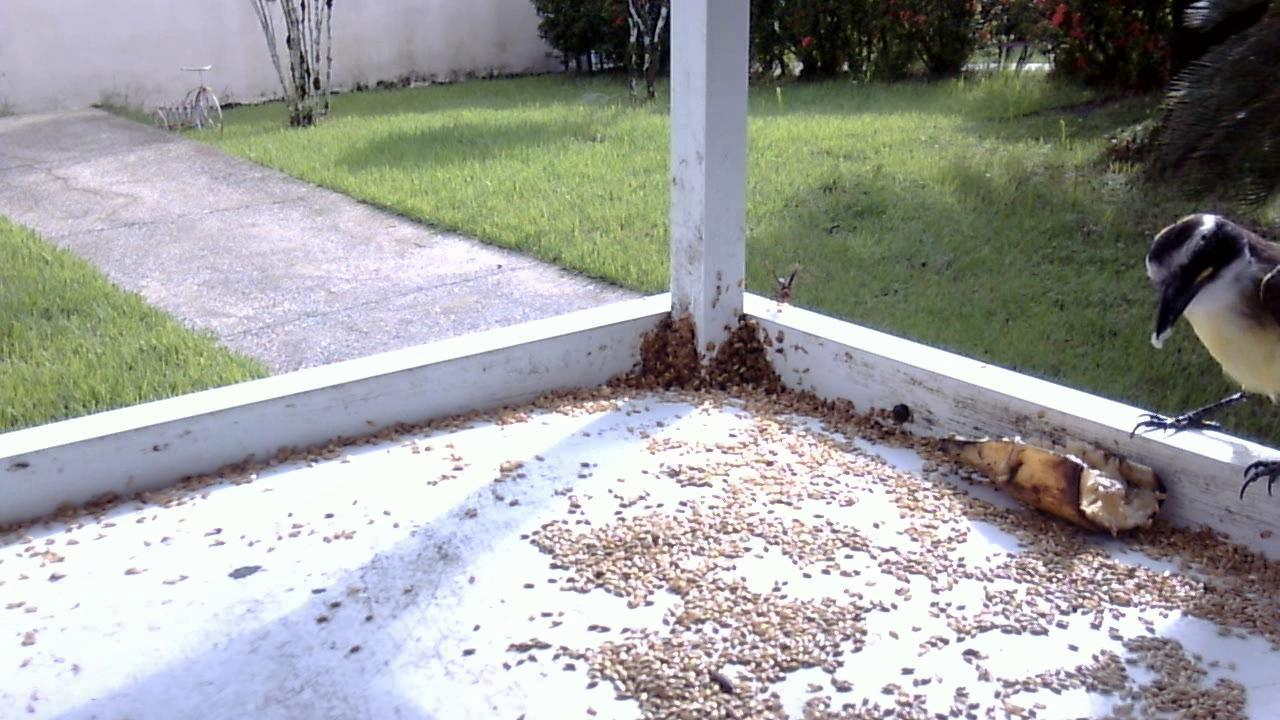bem_te_vi: (1122, 195, 1280, 512)
